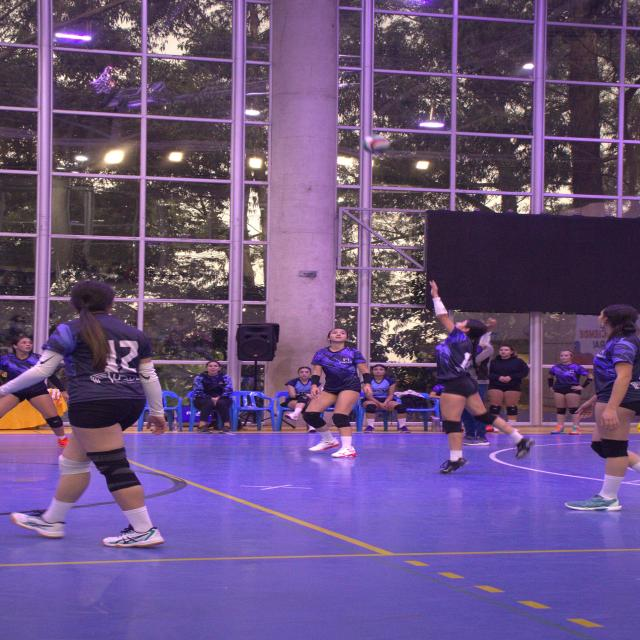volleyball: (364, 135, 391, 154)
